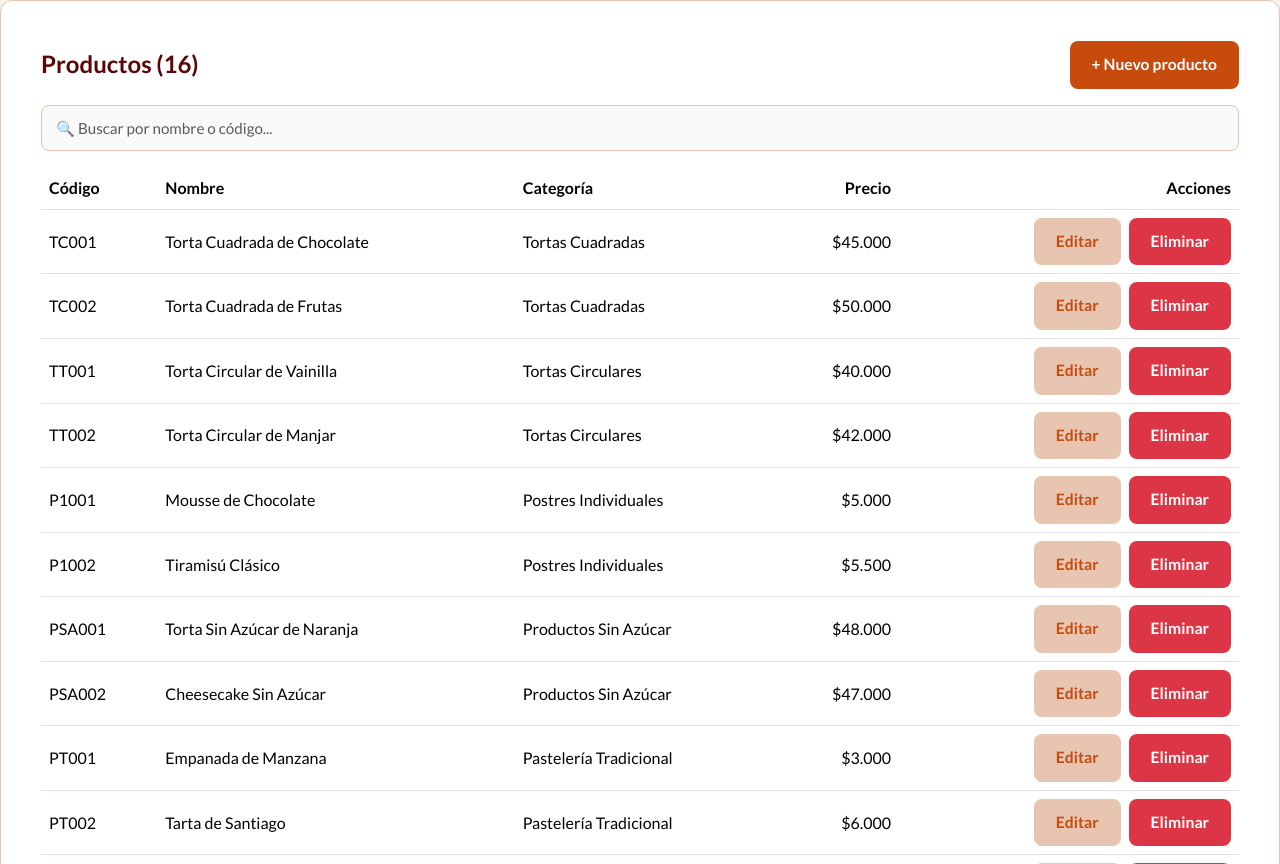
Scenario: Panel de Administración - Productos › Debe editar el precio de un producto
Click the button "Editar" in the row of "TC001" at (1077, 242), box [1034, 218, 1120, 265]
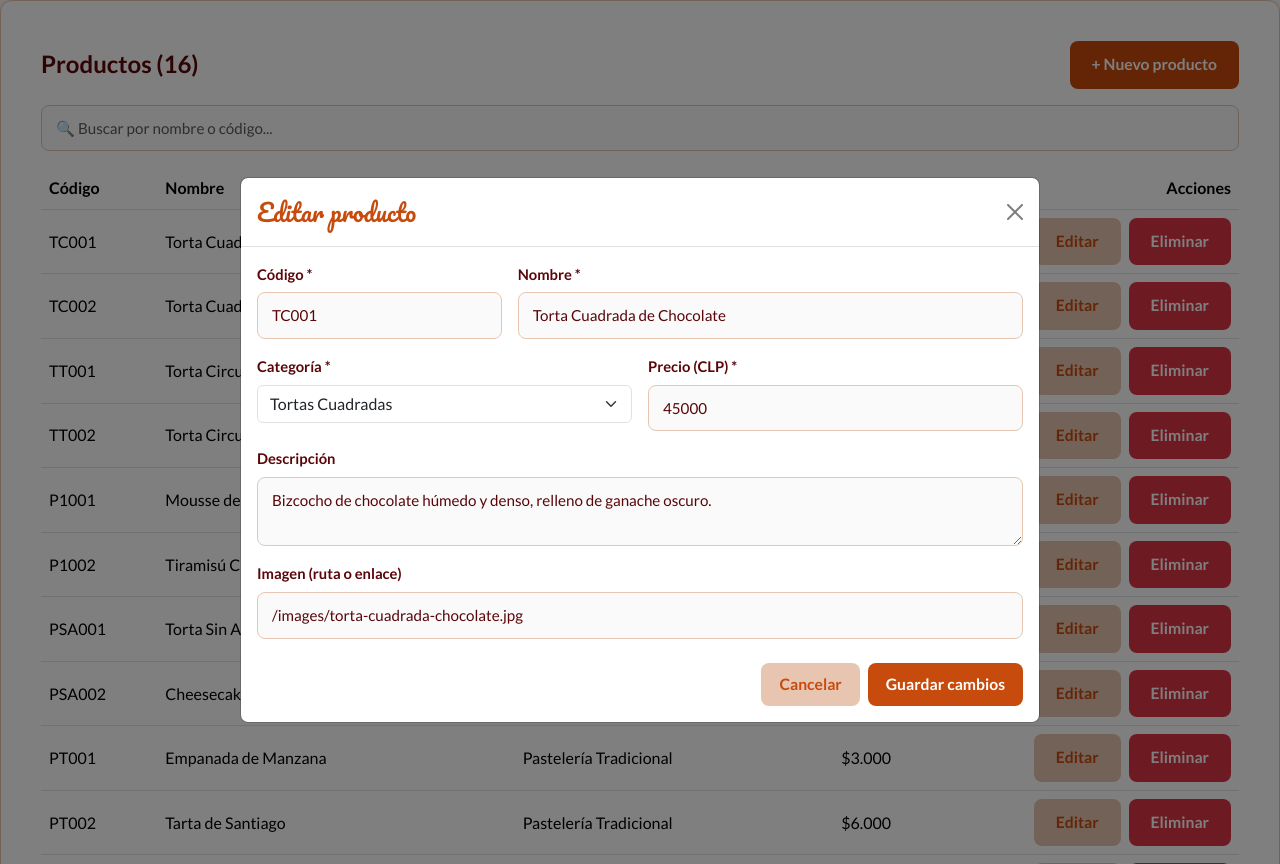
Replace the text in the number field labelled "Precio (CLP) *" with "49990" at (836, 408), box [648, 385, 1023, 431]
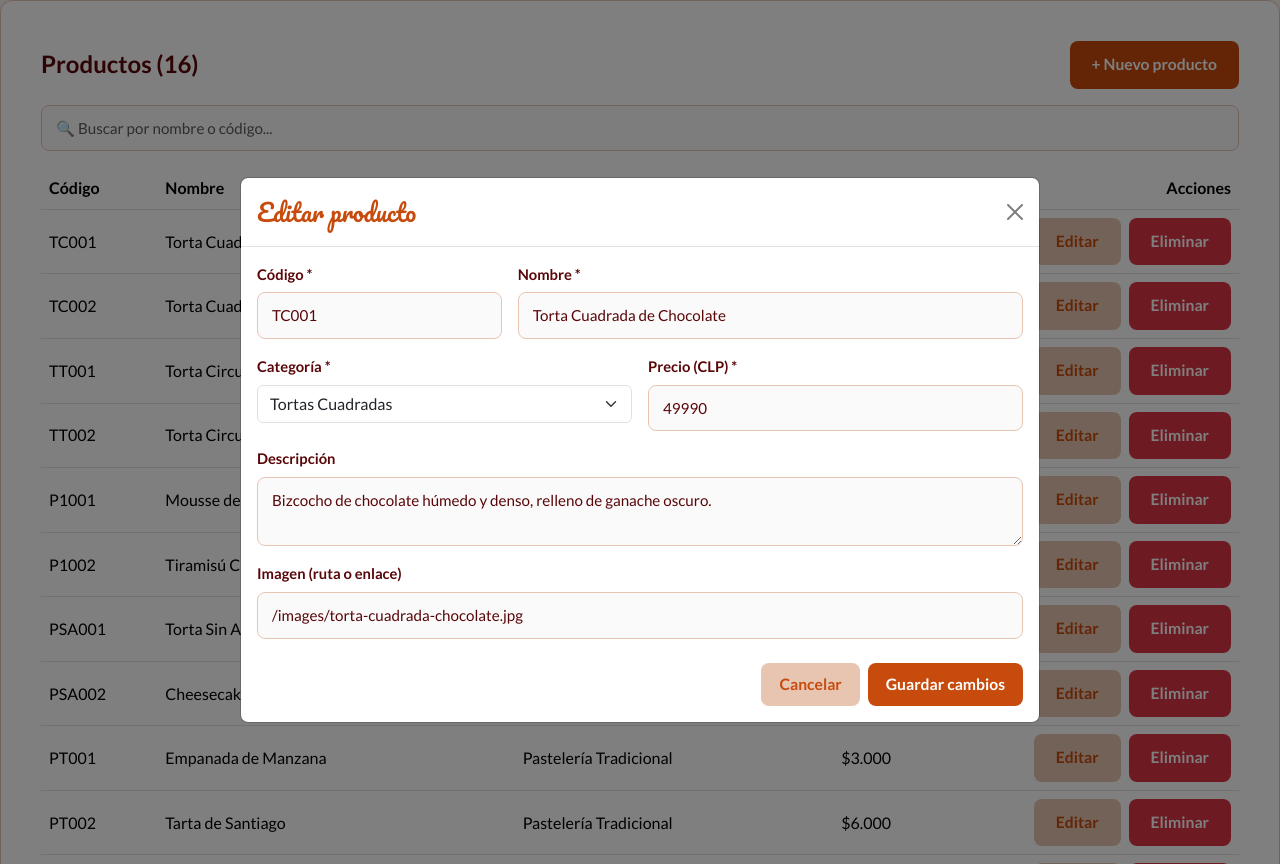
Click the button "Guardar cambios" at (945, 685), box [868, 663, 1023, 706]
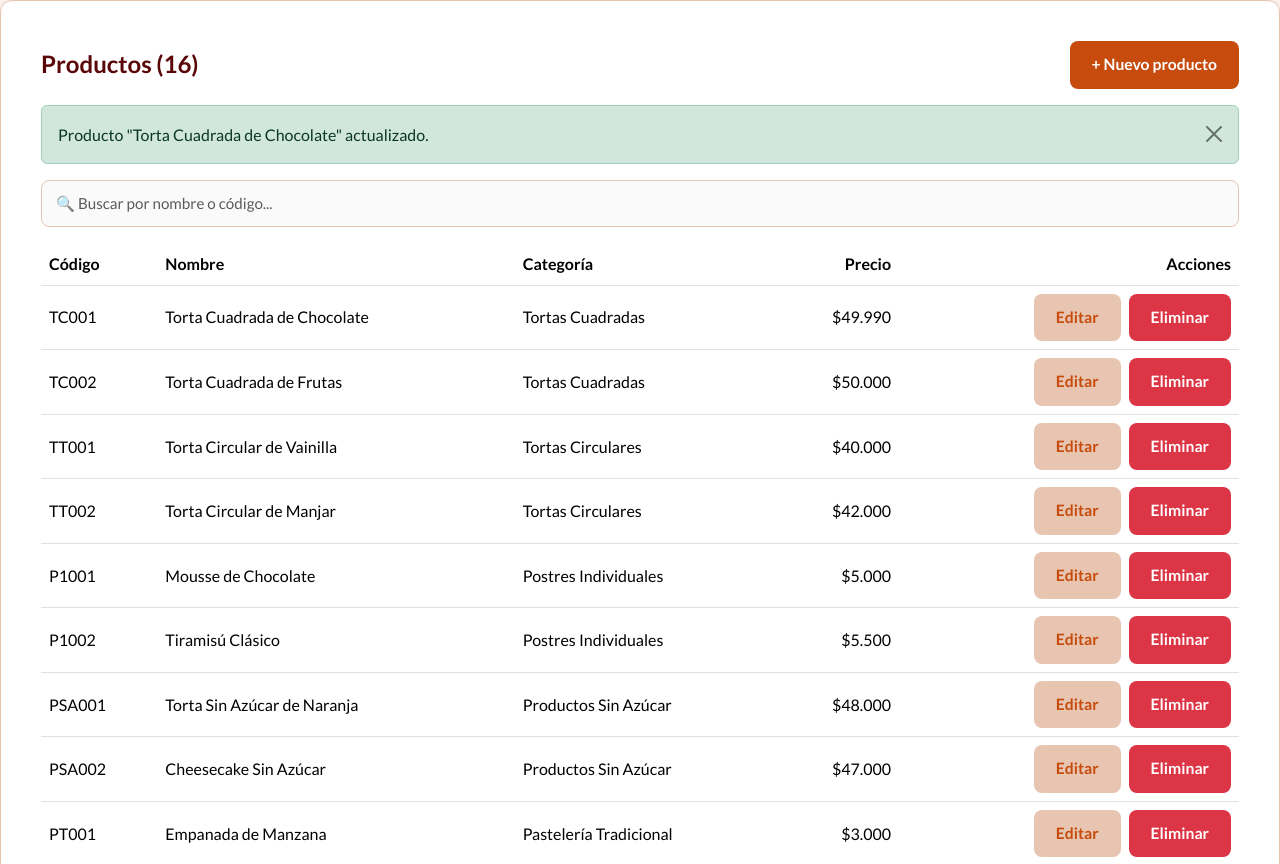
Result: the text "$49.990" is shown at [779, 285, 899, 350]
